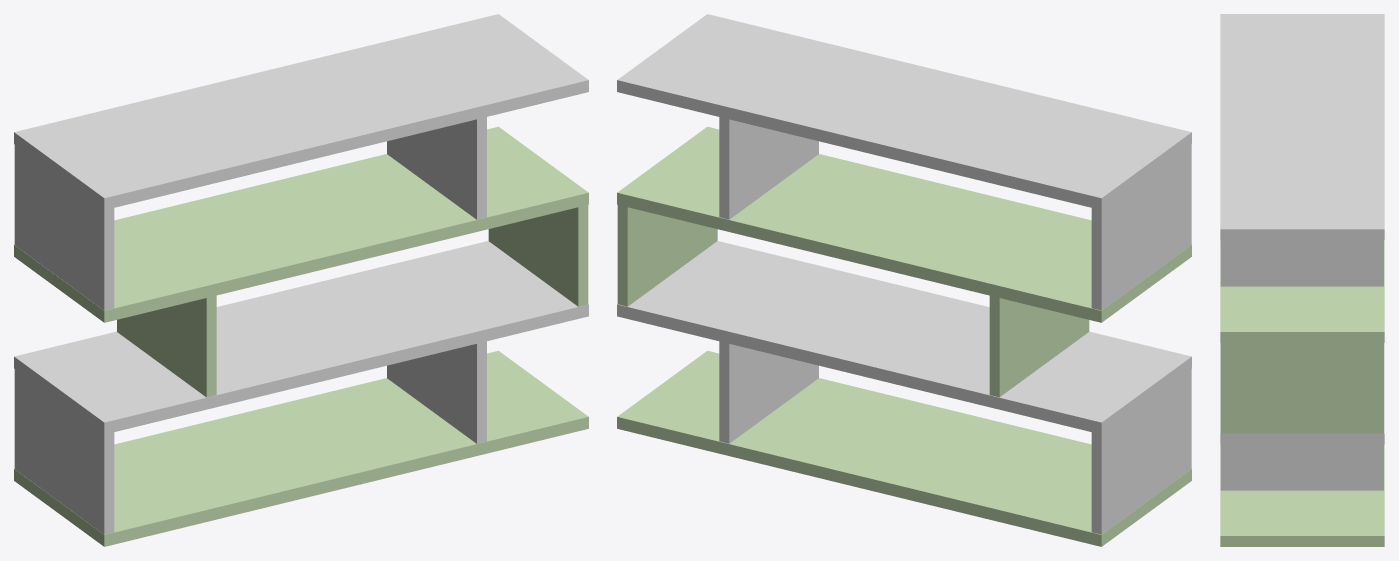
The model's file is Shelf.dae.
The picture shows the model from 3 angles, left to right: view 1: azimuth 30°, elevation 25°; view 2: azimuth 150°, elevation 25°; view 3: azimuth 270°, elevation 25°; orthographic projection. The views are drawn at different scales.
Parts seen in each view (by area): view 1: tablon_estante_superior_001, tablon_estante_superior_001_001, Shelf, tablon_estante_superior_005, tablon_estante_superior_006, tablon_estante_superior_000, tablon_estante_superior_002, tablon_estante_superior_003, tablon_estante_superior_004; view 2: tablon_estante_superior_001, Shelf, tablon_estante_superior_001_001, tablon_estante_superior_005, tablon_estante_superior_006, tablon_estante_superior_000, tablon_estante_superior_002, tablon_estante_superior_003, tablon_estante_superior_004; view 3: tablon_estante_superior_001, tablon_estante_superior_003, tablon_estante_superior_001_001, Shelf, tablon_estante_superior_000, tablon_estante_superior_002.
Part boxes in pixels (x1,y1,x2,y2): tablon_estante_superior_001: (14, 14, 588, 434); tablon_estante_superior_001_001: (14, 126, 588, 322); Shelf: (14, 350, 588, 546); tablon_estante_superior_005: (14, 145, 114, 310); tablon_estante_superior_006: (14, 369, 114, 534); tablon_estante_superior_000: (387, 117, 486, 219); tablon_estante_superior_002: (387, 341, 486, 443); tablon_estante_superior_003: (488, 205, 588, 306); tablon_estante_superior_004: (117, 295, 216, 397); tablon_estante_superior_001: (617, 14, 1191, 434); Shelf: (617, 350, 1191, 546); tablon_estante_superior_001_001: (617, 126, 1191, 322); tablon_estante_superior_005: (1091, 144, 1191, 310); tablon_estante_superior_006: (1091, 369, 1191, 534); tablon_estante_superior_000: (719, 117, 818, 219); tablon_estante_superior_002: (719, 341, 818, 443); tablon_estante_superior_003: (617, 205, 717, 306); tablon_estante_superior_004: (989, 295, 1089, 397); tablon_estante_superior_001: (1220, 14, 1384, 444); tablon_estante_superior_003: (1220, 343, 1383, 433); tablon_estante_superior_001_001: (1220, 240, 1384, 342); Shelf: (1220, 444, 1384, 546); tablon_estante_superior_000: (1220, 240, 1383, 286); tablon_estante_superior_002: (1220, 444, 1383, 490).
Size of the model in its own units: 2.97 by 0.9573 by 2.04.
